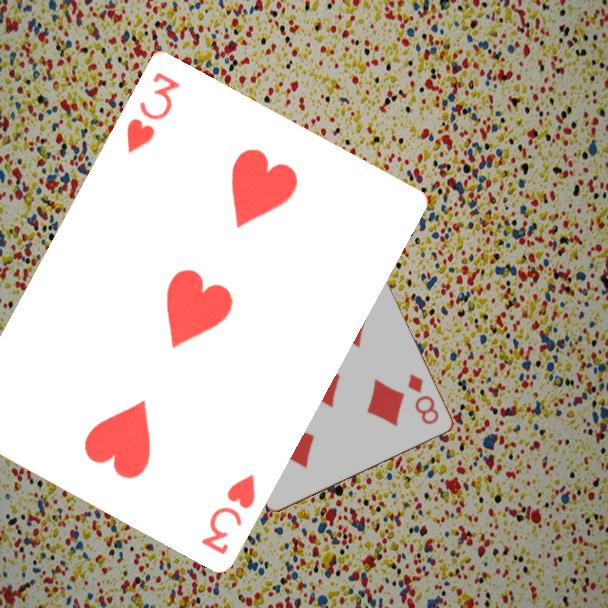d08: (404, 370, 442, 428)
h03: (122, 68, 183, 156), (197, 469, 258, 557)
